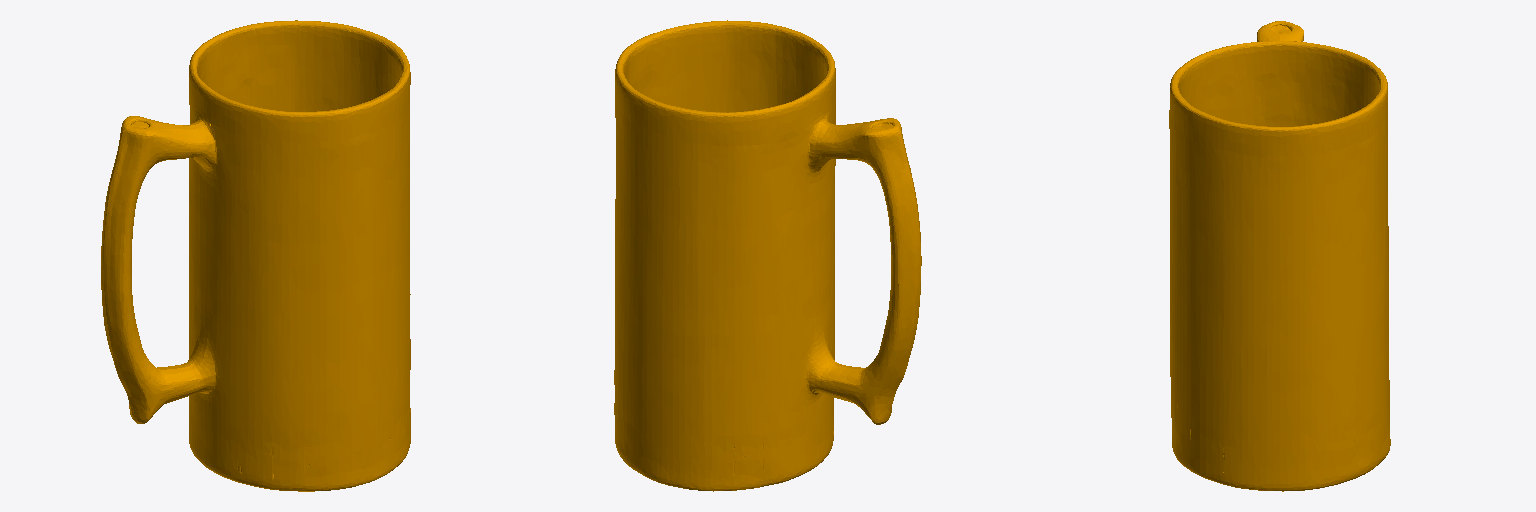
robot.urdf — sample:
<?xml version="1.0" ?>
<robot name="sample">
   <link name="sample">
      <visual>
         <origin xyz="0 0 0" rpy="1.5708 0.0 0.0"/>
         <geometry>
            <mesh filename="mesh/sample.obj" scale="1.0 1.0 1.0"/>
         </geometry>
      </visual>
      <collision>
         <origin xyz="0 0 0" rpy="1.5708 0.0 0.0"/>
         <geometry>
            <mesh filename="mesh/sample_collision.obj" scale="1.0 1.0 1.0"/>
         </geometry>
         <gazebo>
            <mu1>0.60</mu1>
            <mu2>0.50</mu2>
         </gazebo>
      </collision>
      <inertial>
         <mass value="0.6500"/>
         <origin xyz="0 0 0"/>
         <inertia ixx="1.0" ixy="0.0" ixz="0.0" iyy="1.0" iyz="0.0" izz="1.0"/>
      </inertial>
      <extra_info>
         <scale>0.175000</scale>
         <version>v0.1.7</version>
         <category>bottle drink</category>
         <description>glass mug filled with amber liquid and foam head</description>
         <min_height>0.15</min_height>
         <max_height>0.2</max_height>
         <real_height>0.175</real_height>
         <min_mass>0.5</min_mass>
         <max_mass>0.8</max_mass>
         <color>orange</color>
         <rgba>[1.0, 0.6, 0.0, 1.0]</rgba>
         <generate_time>20260526161116</generate_time>
         <gs_model>mesh/sample_gs.ply</gs_model>
      </extra_info>
   </link>
   <custom_data>
      <quality>
         <MeshGeoChecker>YES</MeshGeoChecker>
         <ImageSegChecker>NO, background artifacts and color bleeding indicate poor segmentation.</ImageSegChecker>
         <ImageAestheticChecker>5.25321102142334</ImageAestheticChecker>
         <overall>NO</overall>
      </quality>
   </custom_data>
</robot>

--- Render facts (derived) ---
3 views of the same robot in one strip: view 1: azimuth 30°, elevation 25°; view 2: azimuth 150°, elevation 25°; view 3: azimuth 270°, elevation 25° (orthographic).
Model sample with 1 links and 0 joints (none), rooted at sample, posed every joint at zero.
Visible links, largest first — view 1: sample; view 2: sample; view 3: sample.
Boxes of the visible links, x1=… form: sample: x1=101, y1=20, x2=410, y2=491; sample: x1=614, y1=20, x2=921, y2=491; sample: x1=1169, y1=21, x2=1390, y2=491.
Size in the robot's own frame: 0.1411 by 0.0963 by 0.175 metres.
Meshes: 1 distinct files referenced, 1 mesh visuals loaded (1 OBJ).
